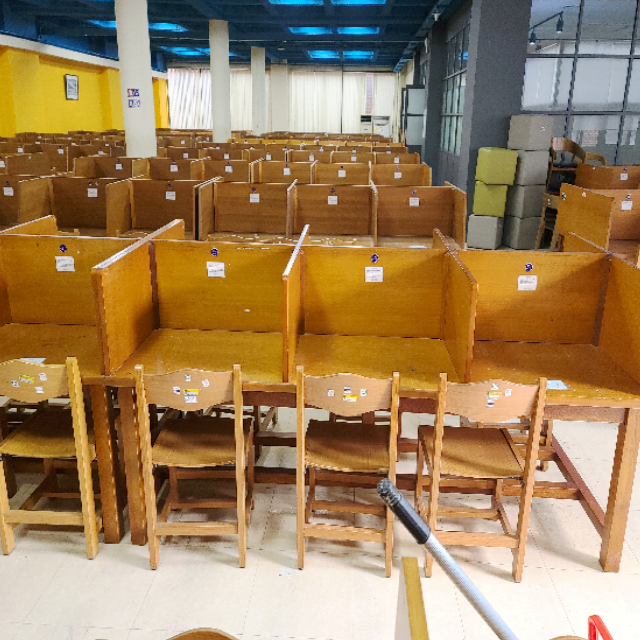empty: (295, 218, 470, 477), (105, 223, 287, 464), (480, 212, 640, 477)
